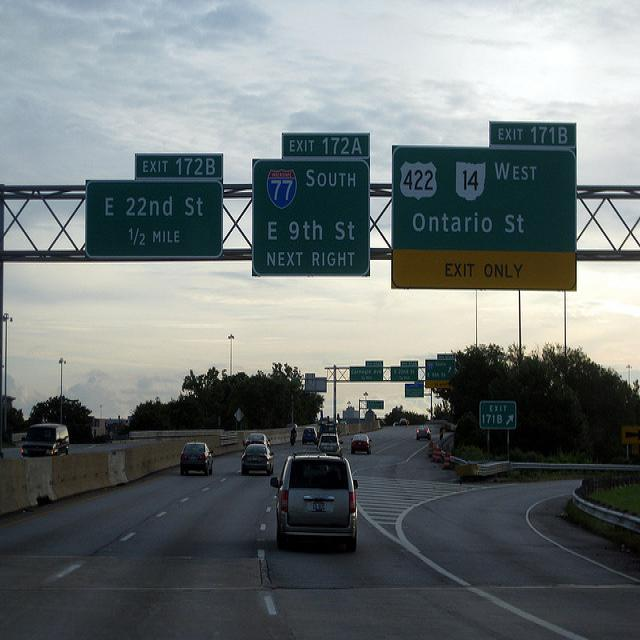motor: (290, 435, 296, 446)
